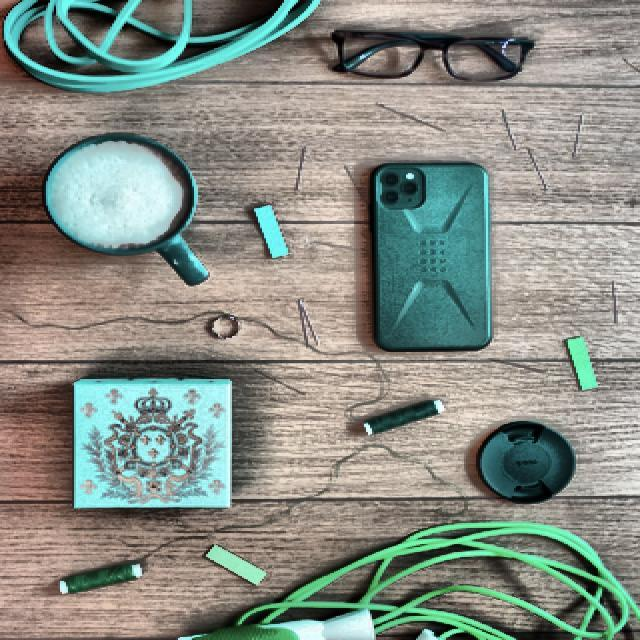Phone: (366, 158, 497, 352)
